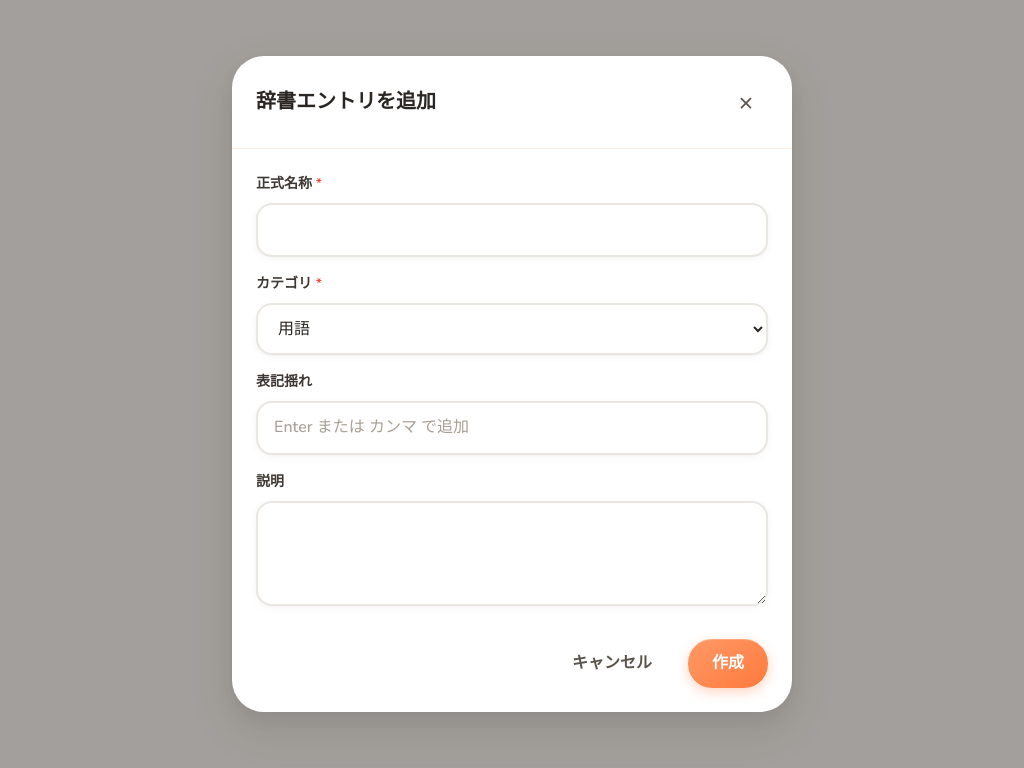
AgentDictionaryForm › Add mode (entry is null) › shows validation error when canonical_name is empty
Click the button "作成": (728, 664) [688, 639, 768, 688]
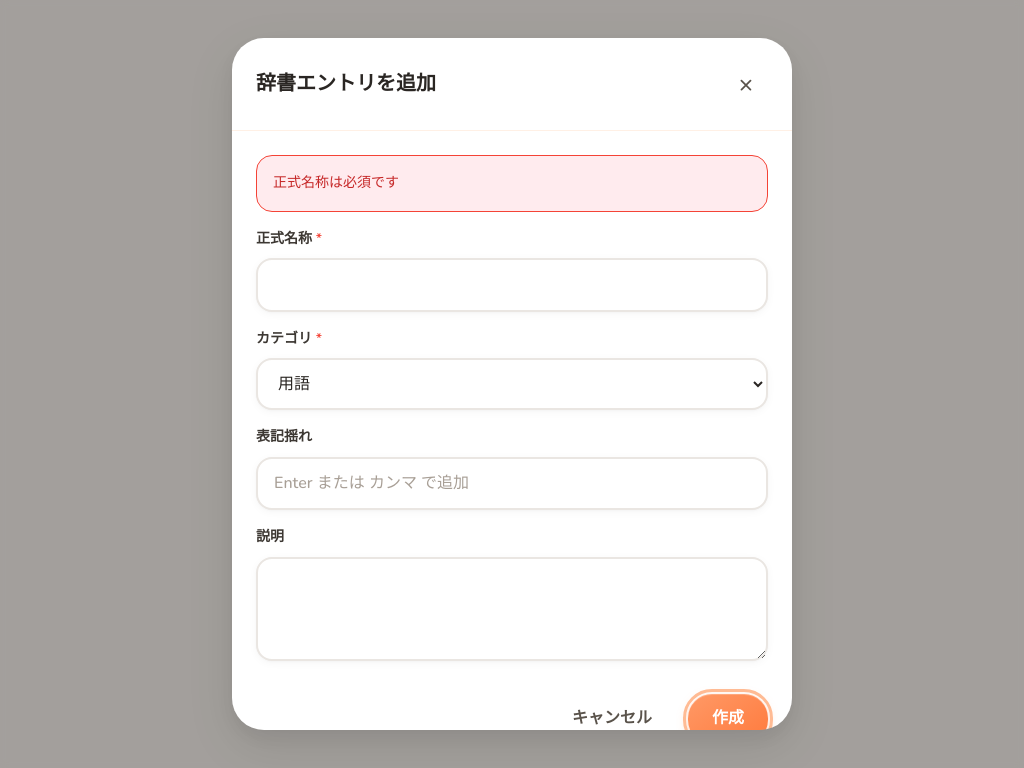
Now the text "正式名称は必須です" is shown, box [256, 155, 768, 212]
